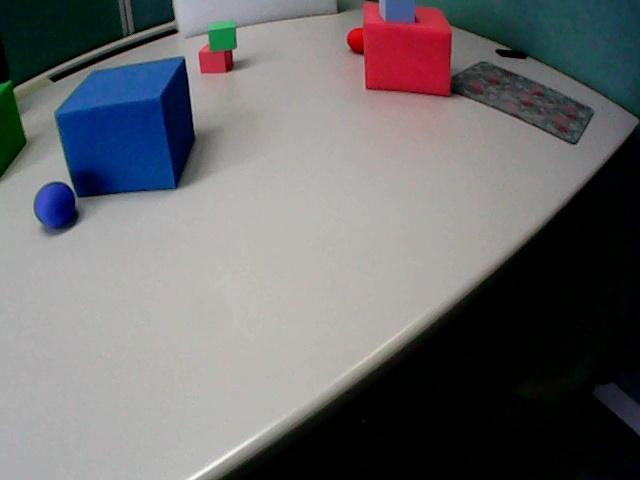blue_block: (56, 58, 195, 197), (379, 0, 415, 22), (0, 35, 9, 83)
red_block: (363, 2, 451, 95), (199, 44, 232, 73)
